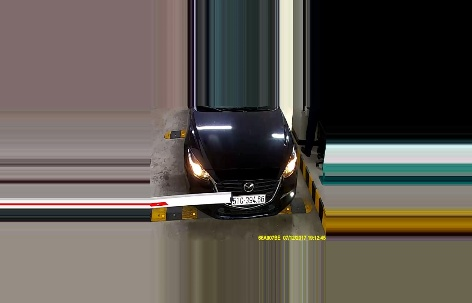plate: (229, 192, 267, 206)
